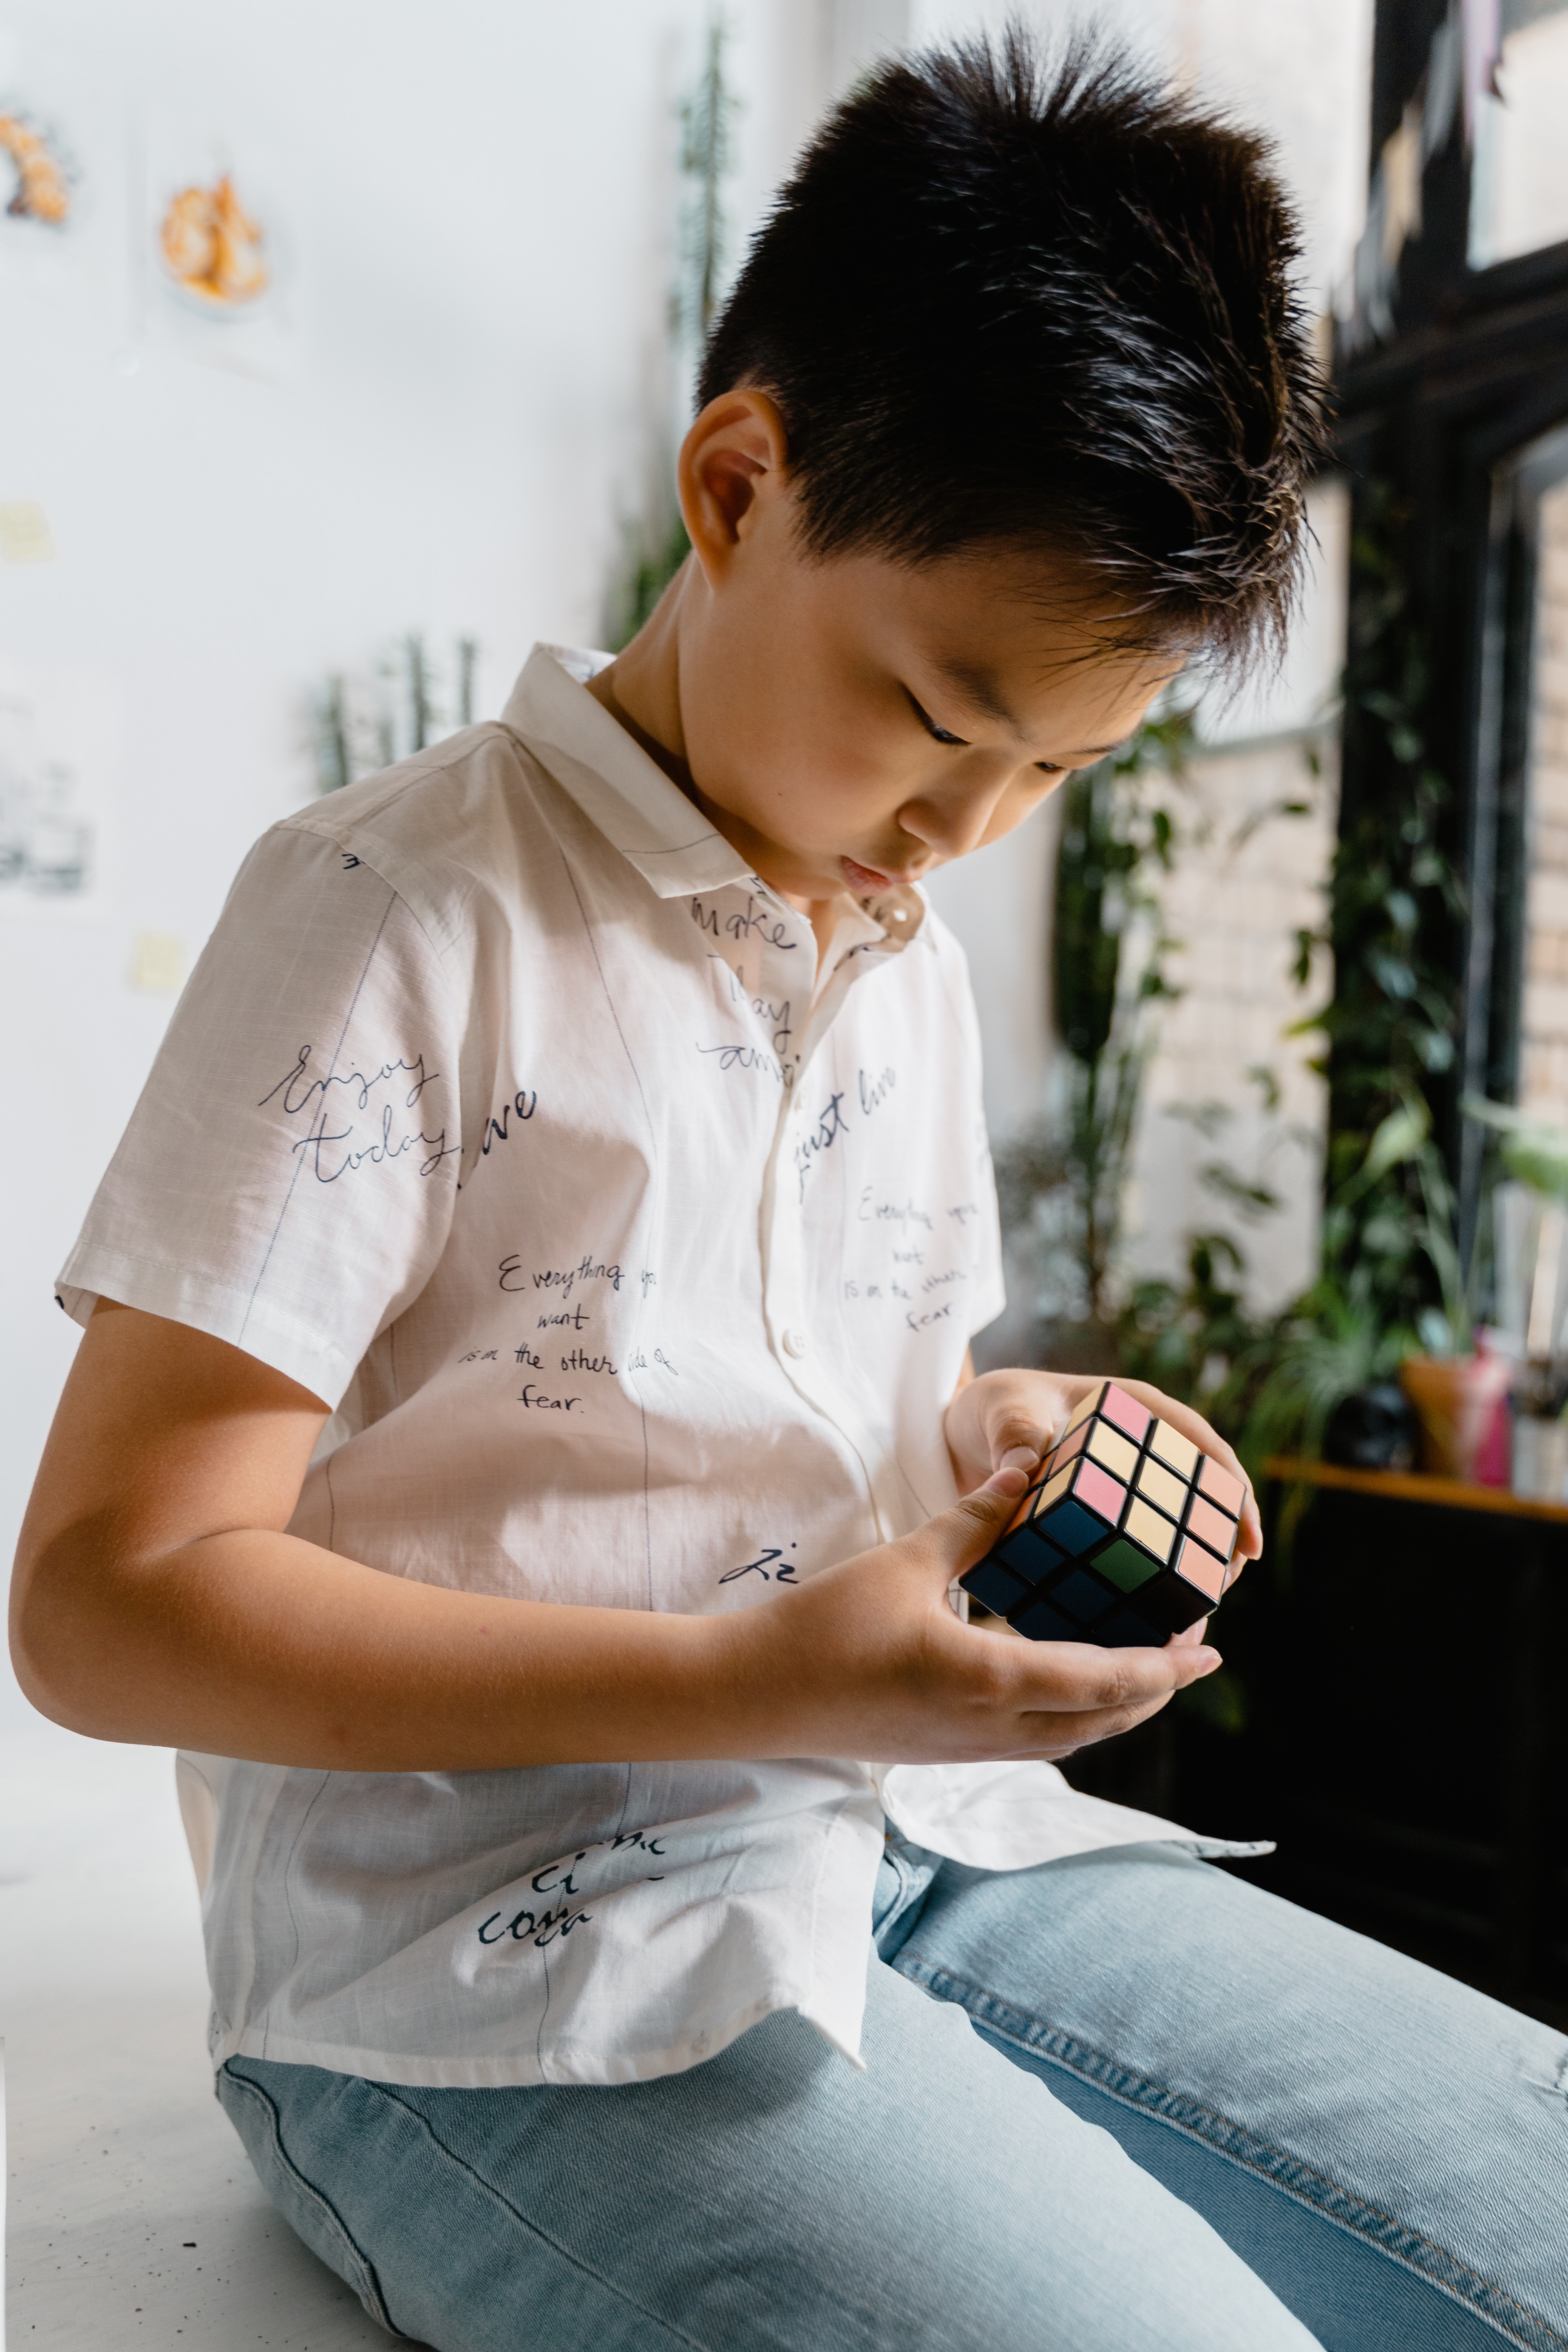cube: (950, 1382, 1249, 1671)
